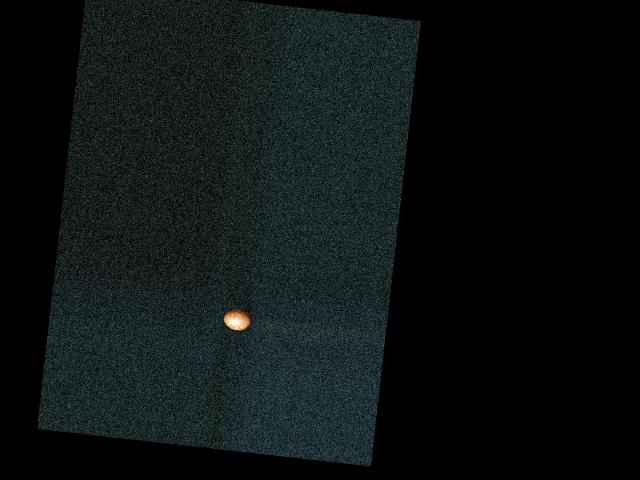egg: (222, 307, 252, 331)
